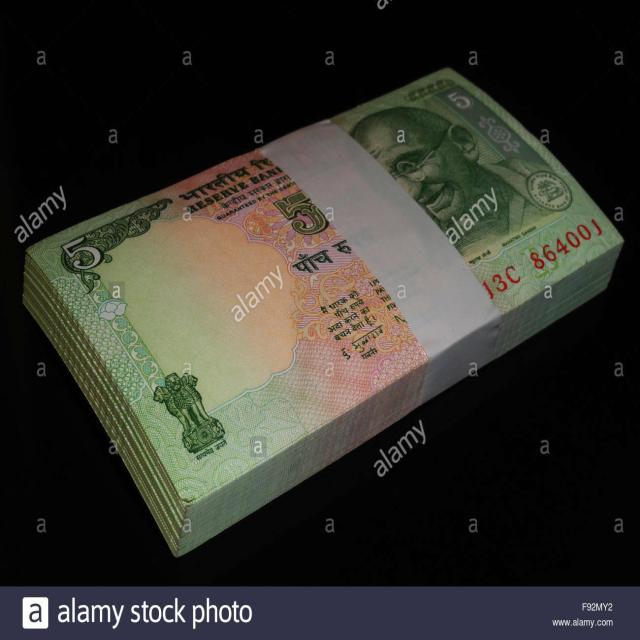5IndianRupees: (98, 62, 595, 516)
